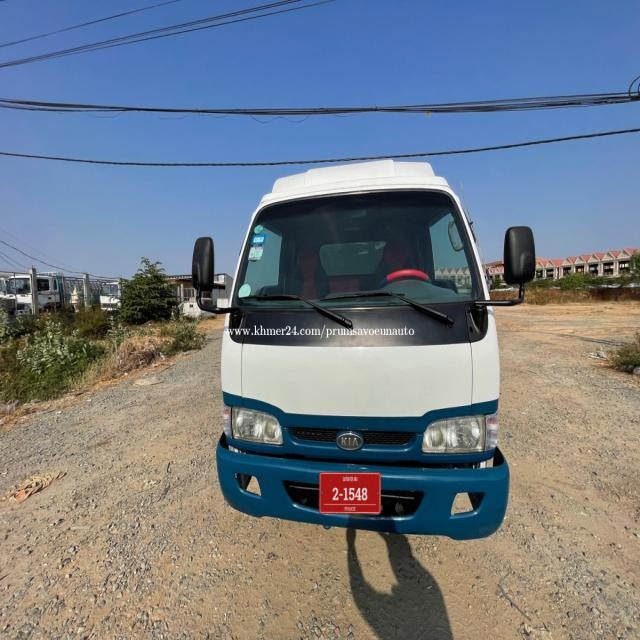Plate Number: (319, 472, 382, 515)
